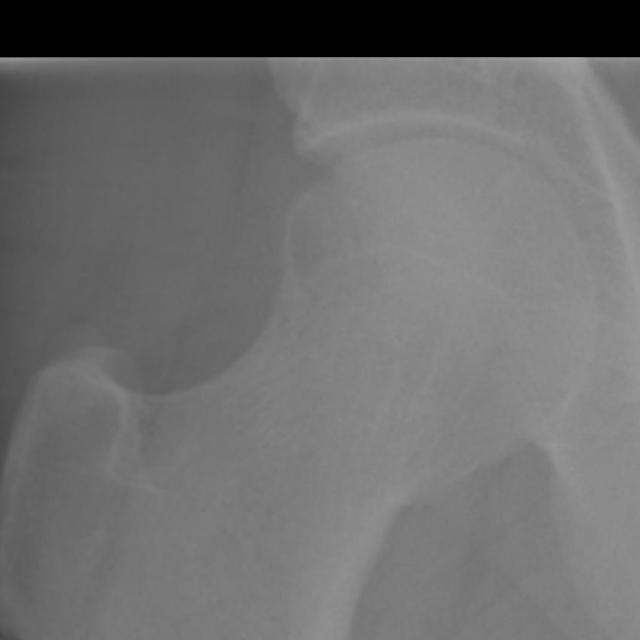Fitted_femural_head: (331, 140, 432, 331)
